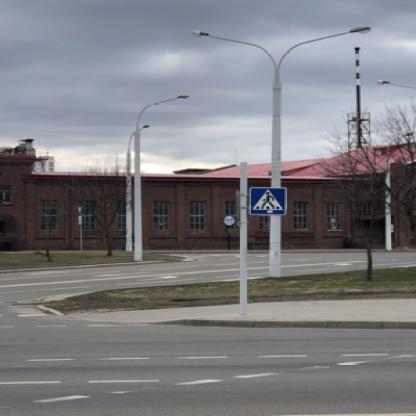crosswalk: (247, 186, 284, 214)
